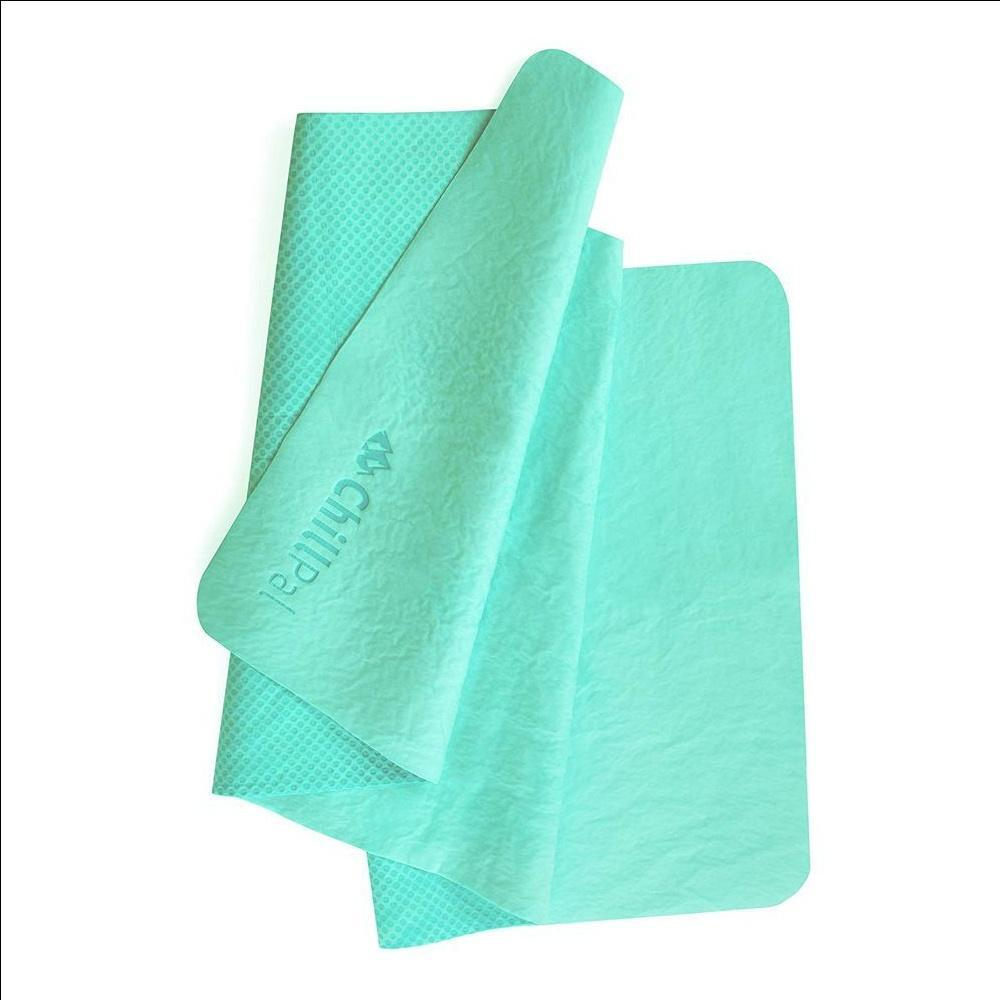towel: (202, 62, 892, 962)
